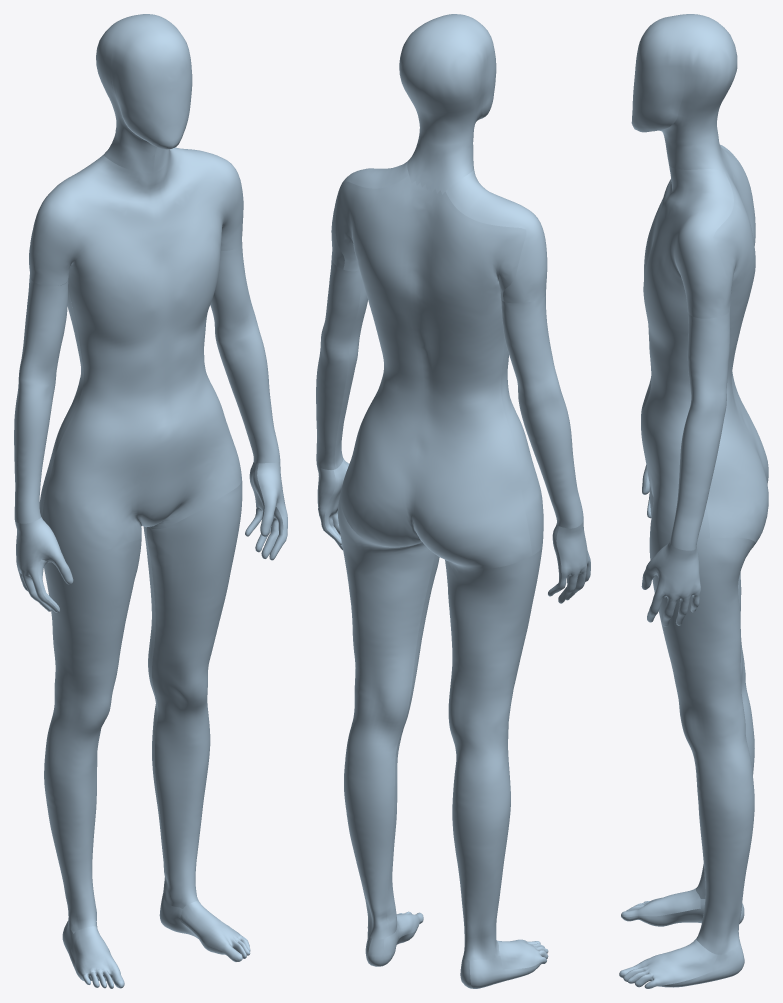
3 views of the same model, side by side, from view 1: azimuth 30°, elevation 25°; view 2: azimuth 150°, elevation 25°; view 3: azimuth 270°, elevation 25° (orthographic).
Parts seen in each view (by area): view 1: Obj3d66_15474118_2_973; view 2: Obj3d66_15474118_2_973; view 3: Obj3d66_15474118_2_973.
Boxes of the visible parts, x1=… form: Obj3d66_15474118_2_973: x1=14, y1=14, x2=287, y2=988; Obj3d66_15474118_2_973: x1=316, y1=14, x2=590, y2=988; Obj3d66_15474118_2_973: x1=619, y1=14, x2=768, y2=988.
Bounding box in the file's own units: 0.511 × 1.75 × 0.2542.
